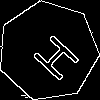H: (23, 26, 82, 84)
